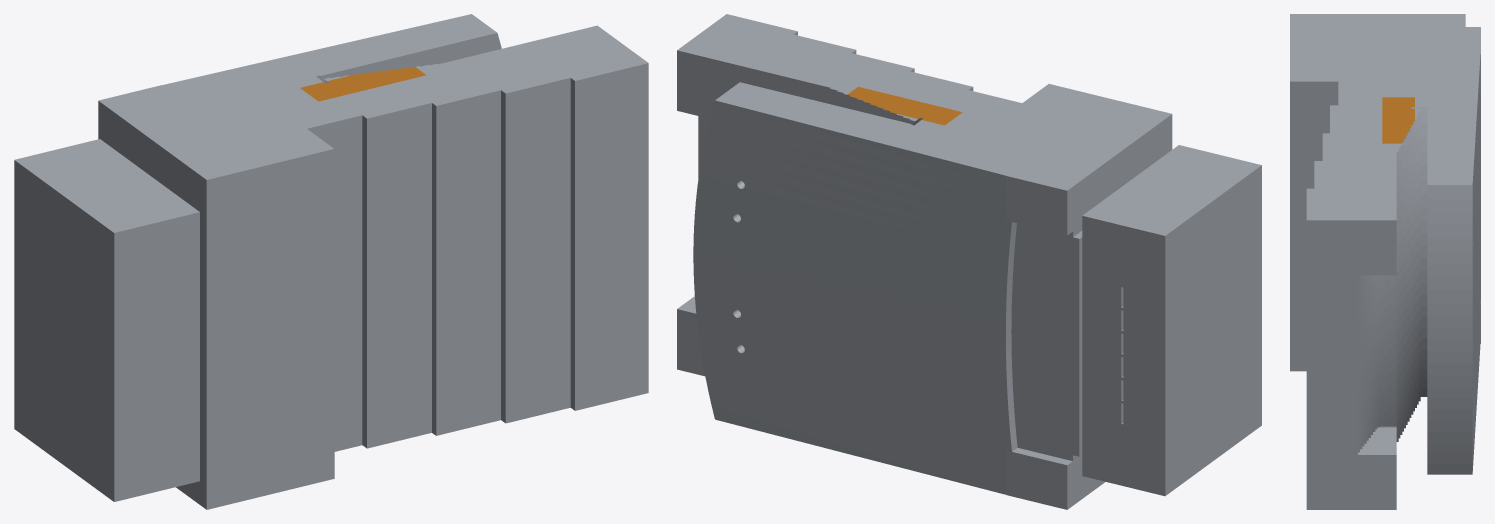
File: modelo-panos-d50.obj
3 views of the same model, side by side, from view 1: azimuth 30°, elevation 25°; view 2: azimuth 150°, elevation 25°; view 3: azimuth 270°, elevation 25° (orthographic). The views are drawn at different scales.
Visible parts, largest first — view 1: MATERIAL_108, MATERIAL_115, MATERIAL_114, MATERIAL_109, PANO_Lpos; view 2: MATERIAL_113, MATERIAL_115, MATERIAL_111, MATERIAL_112, MATERIAL_110, MATERIAL_114, MATERIAL_109, MATERIAL_107, PANO_Lpos; view 3: MATERIAL_115, MATERIAL_114, MATERIAL_107, MATERIAL_108, MATERIAL_109, MATERIAL_113, PANO_Lpos, MATERIAL_110, MATERIAL_112.
Part boxes in pixels (bbox=[...]): MATERIAL_108: bbox=[114, 33, 648, 509]; MATERIAL_115: bbox=[14, 14, 648, 501]; MATERIAL_114: bbox=[14, 111, 209, 427]; MATERIAL_109: bbox=[104, 75, 328, 509]; PANO_Lpos: bbox=[300, 67, 426, 101]; MATERIAL_113: bbox=[698, 116, 993, 472]; MATERIAL_115: bbox=[677, 14, 1261, 495]; MATERIAL_111: bbox=[1011, 216, 1165, 496]; MATERIAL_112: bbox=[693, 88, 1005, 494]; MATERIAL_110: bbox=[677, 50, 1072, 509]; MATERIAL_114: bbox=[1049, 135, 1217, 456]; MATERIAL_109: bbox=[913, 114, 1172, 505]; MATERIAL_107: bbox=[733, 180, 1123, 451]; PANO_Lpos: bbox=[847, 86, 962, 125]; MATERIAL_115: bbox=[1290, 14, 1480, 509]; MATERIAL_114: bbox=[1371, 17, 1472, 474]; MATERIAL_107: bbox=[1358, 111, 1473, 452]; MATERIAL_108: bbox=[1290, 81, 1338, 371]; MATERIAL_109: bbox=[1411, 107, 1428, 396]; MATERIAL_113: bbox=[1472, 79, 1480, 455]; PANO_Lpos: bbox=[1382, 97, 1414, 143]; MATERIAL_110: bbox=[1358, 72, 1480, 454]; MATERIAL_112: bbox=[1472, 54, 1480, 470].
Size of the model in its own units: 40.25 by 23.33 by 13.92.
